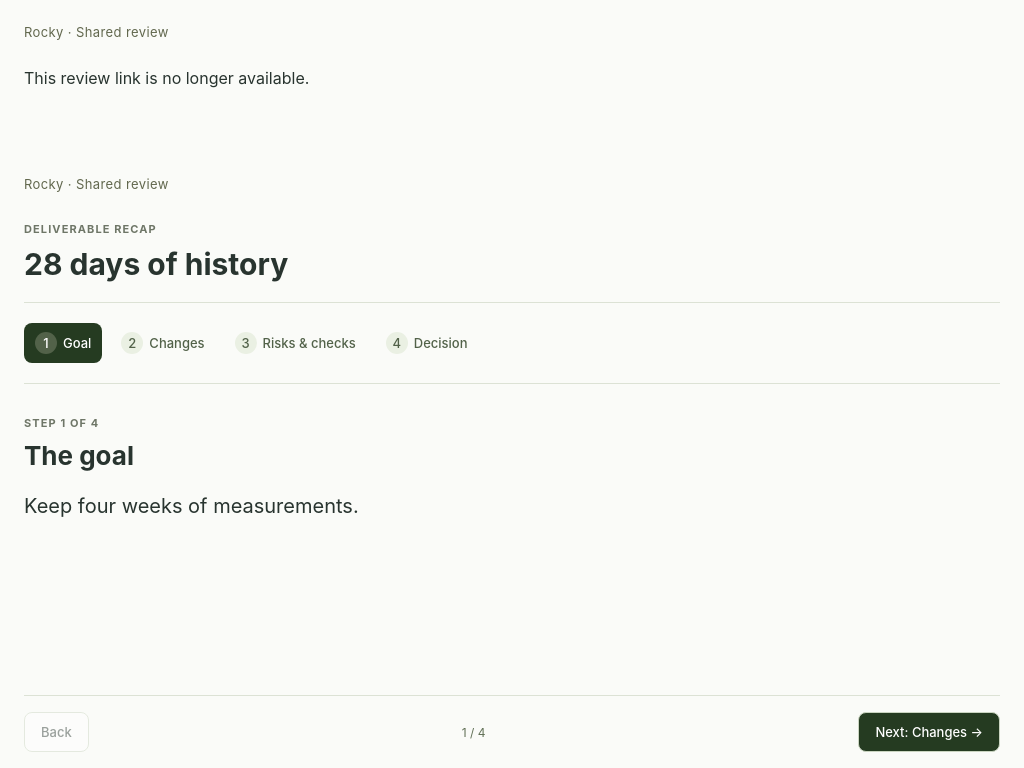
Test case: opens directly in the read-only wizard and loads only its scoped report
The image size is (1024, 768).
Expected: the heading "28 days of history" is shown, [24,246,288,282]
Expected: the text "Keep four weeks of measurements." is shown, [24,494,359,518]
Click the button "2 Changes".
click(163, 343)  # box [110,323,216,363]
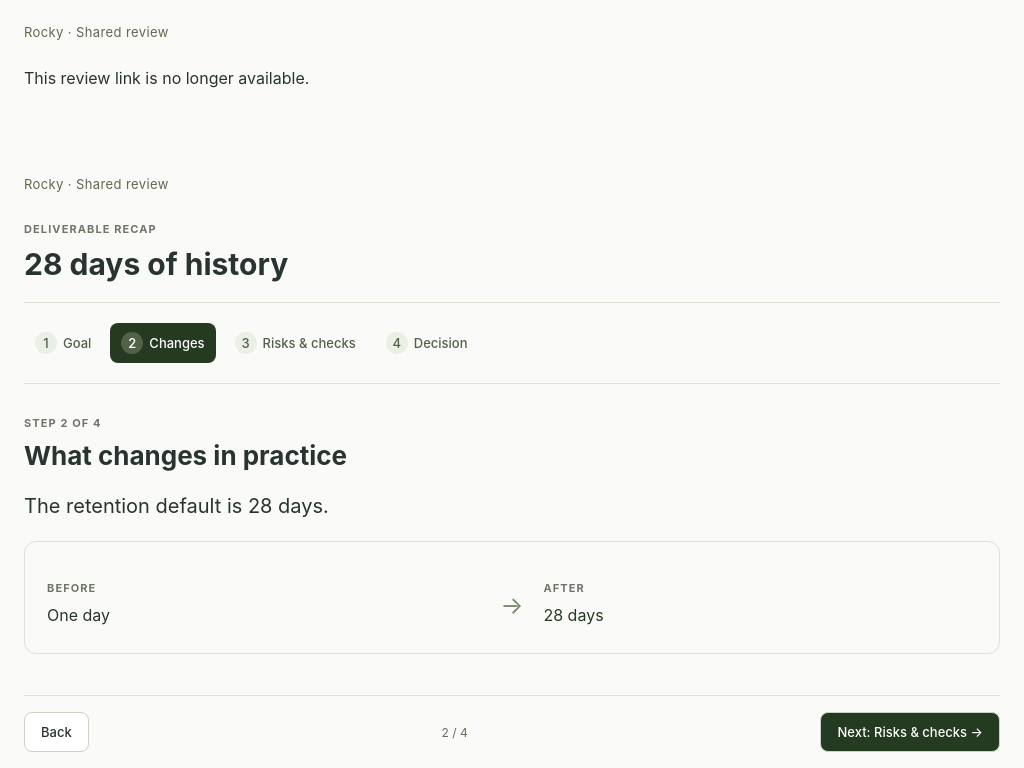
Now the heading "What changes in practice" is shown, box [24,440,347,471]
